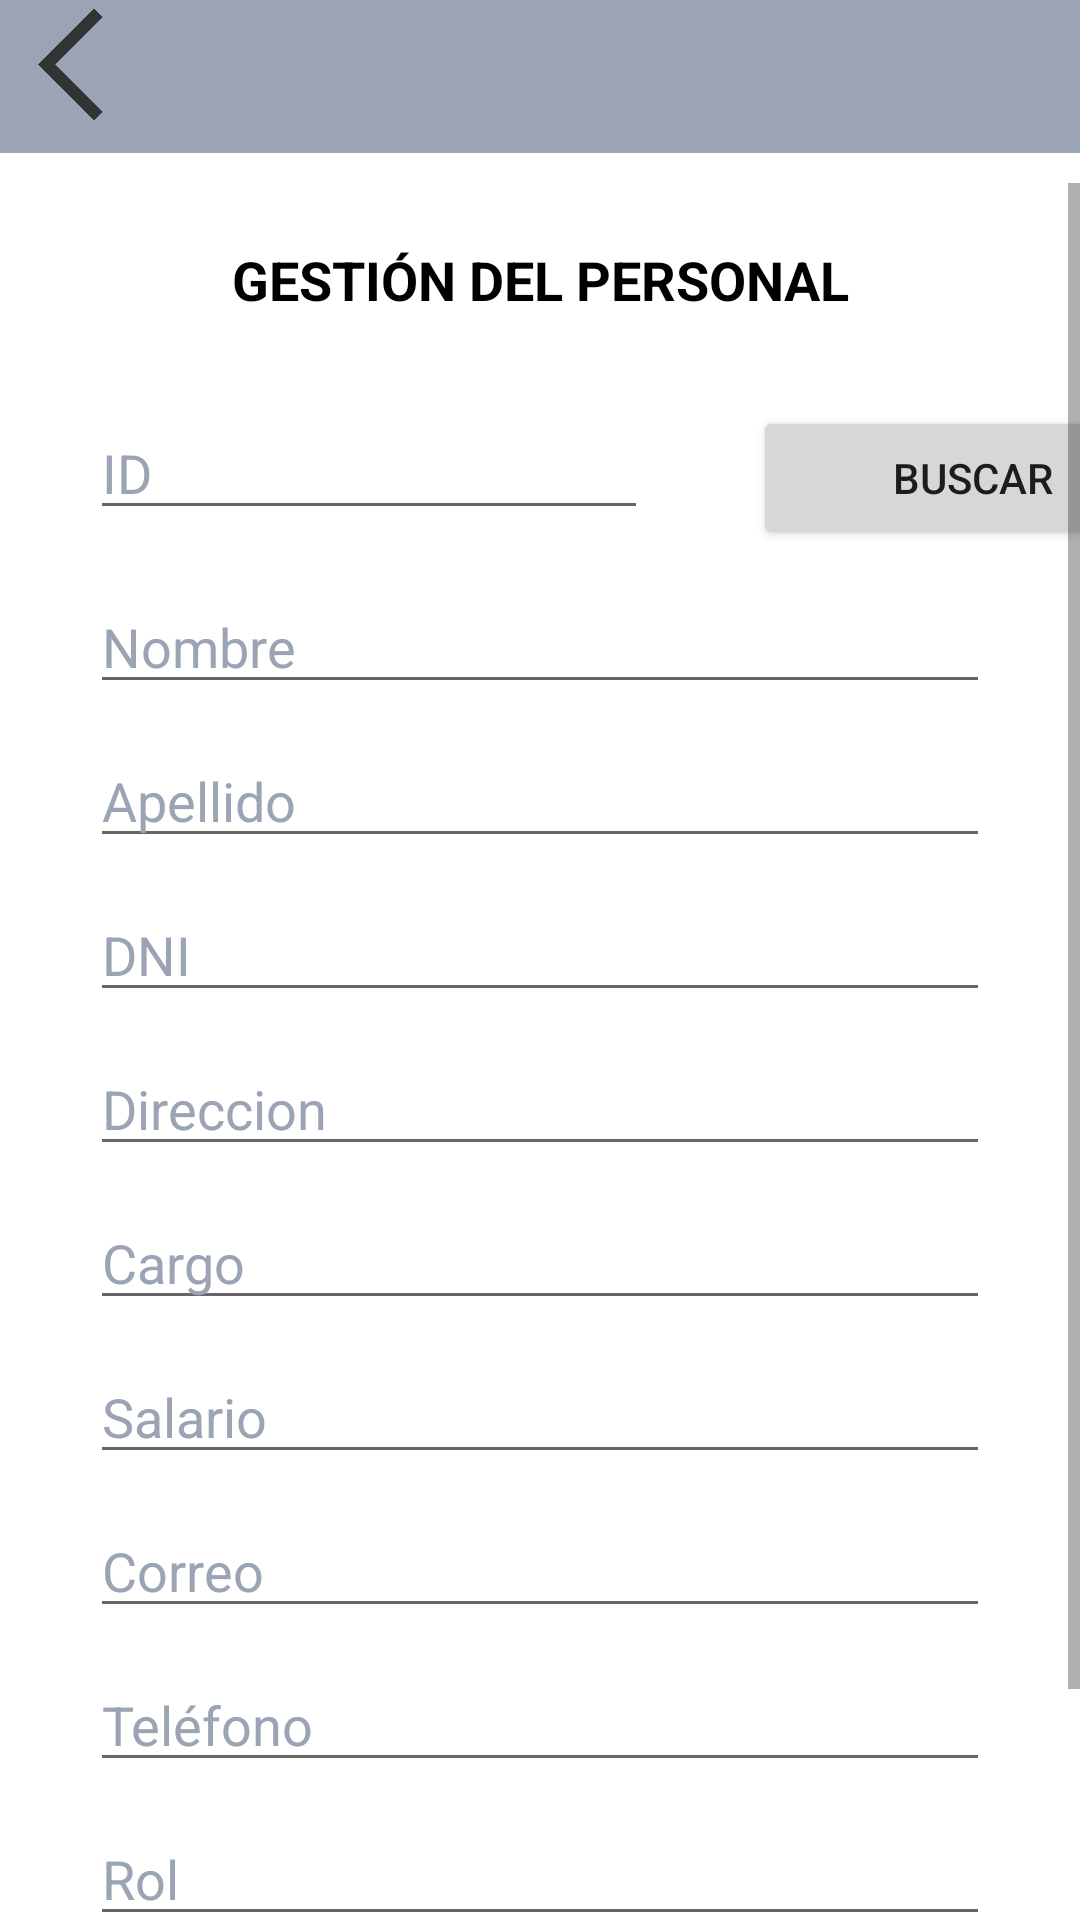

Icon bounding boxes for this 1080px x 1920px phone screenshot, format [x1=x1, y1=y1, x2=x2, y2=y2]:
fllecha: [x1=38, y1=9, x2=103, y2=120]
